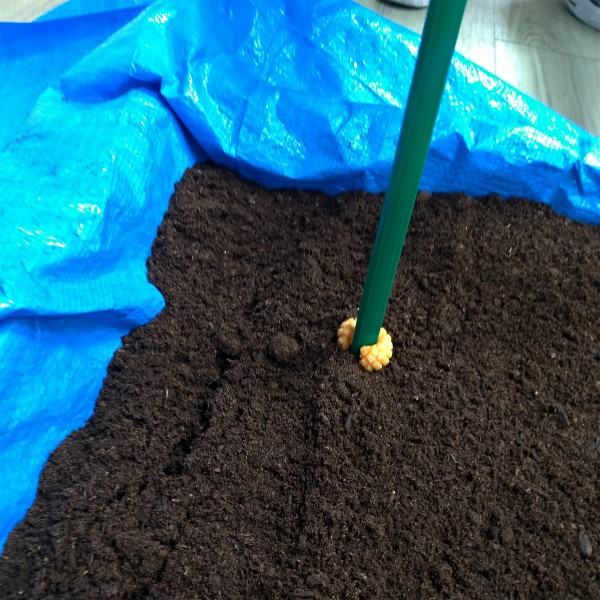eggs: (332, 313, 396, 370)
